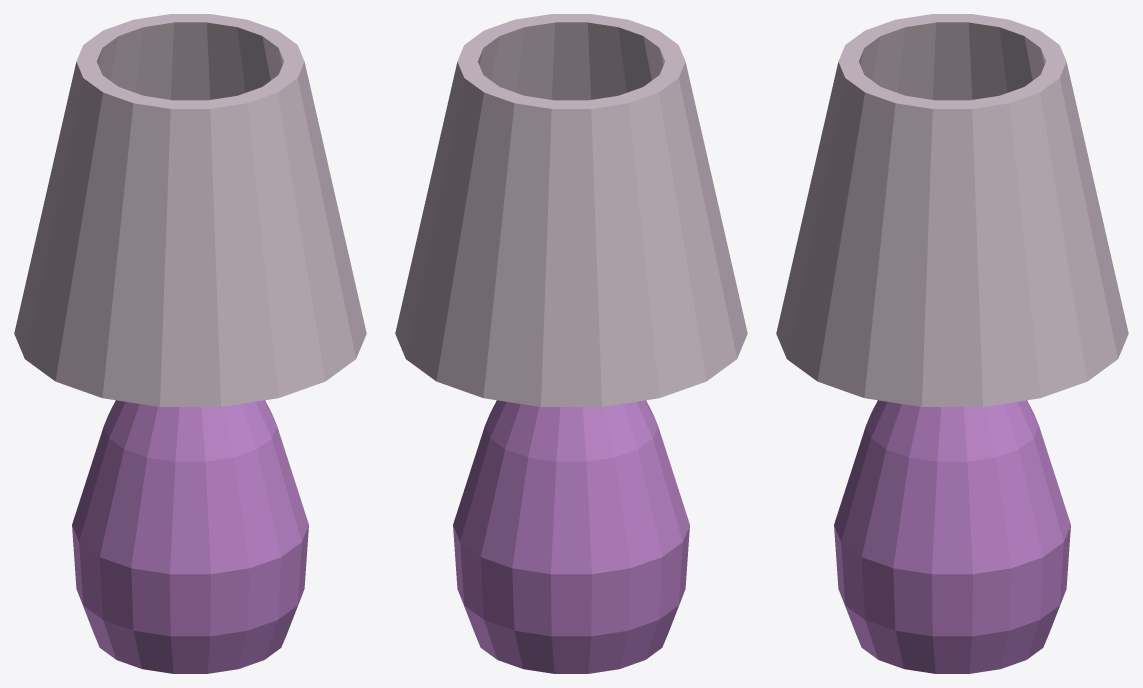
Rendered from lapmara.fbx.
3 renders of one model, left to right at view 1: azimuth 30°, elevation 25°; view 2: azimuth 150°, elevation 25°; view 3: azimuth 270°, elevation 25°, orthographic.
Visible parts, largest first — view 1: Cylinder.003, Cylinder.004; view 2: Cylinder.003, Cylinder.004; view 3: Cylinder.003, Cylinder.004.
Boxes of the visible parts, box(x1,y1,x2,y2) form: Cylinder.003: box(14, 14, 366, 406); Cylinder.004: box(72, 400, 308, 673); Cylinder.003: box(395, 14, 747, 406); Cylinder.004: box(453, 400, 689, 673); Cylinder.003: box(776, 14, 1128, 406); Cylinder.004: box(834, 400, 1070, 673).
Size of the model in its own units: 76.09 by 138 by 77.26.
